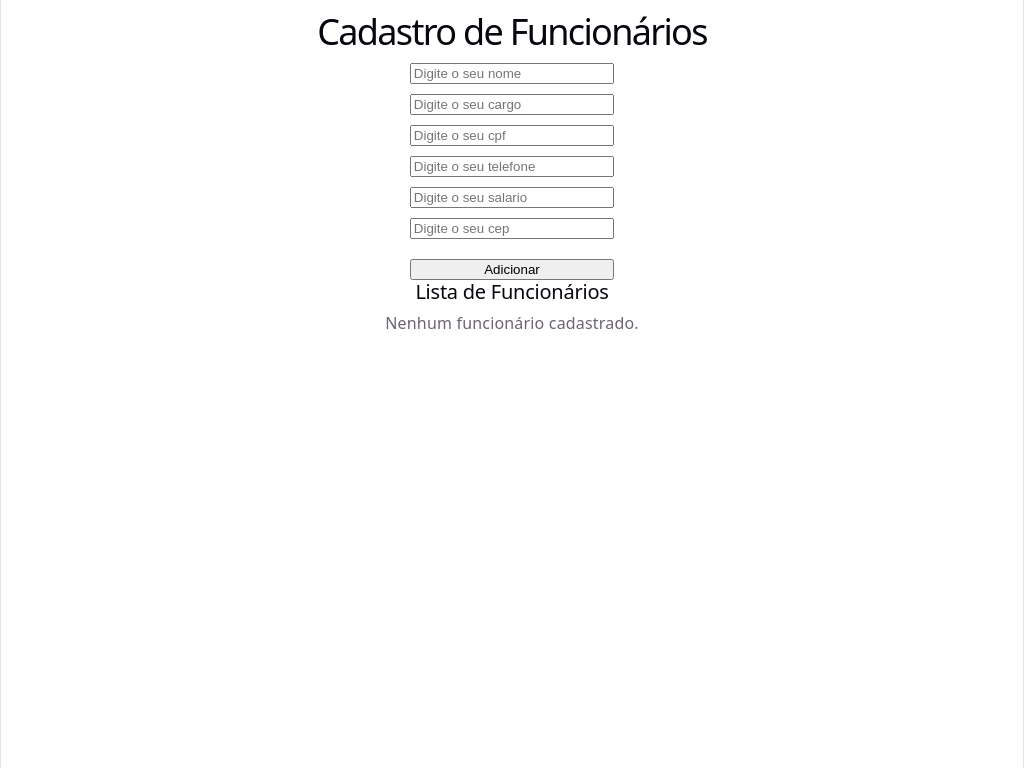
Test: Testes da Tela Cadastro de Funcionários › Verificar exibição de erro ao tentar cadastrar funcionário com cpf inválido
This screenshot has width=1024, height=768.
Step 1. Type "Mario" into the field with placeholder "Digite o seu nome" → x=512, y=74, box 410,63 -> 614,84
Step 2. Type "Vendedor" into the field with placeholder "Digite o seu cargo" → x=512, y=105, box 410,94 -> 614,115
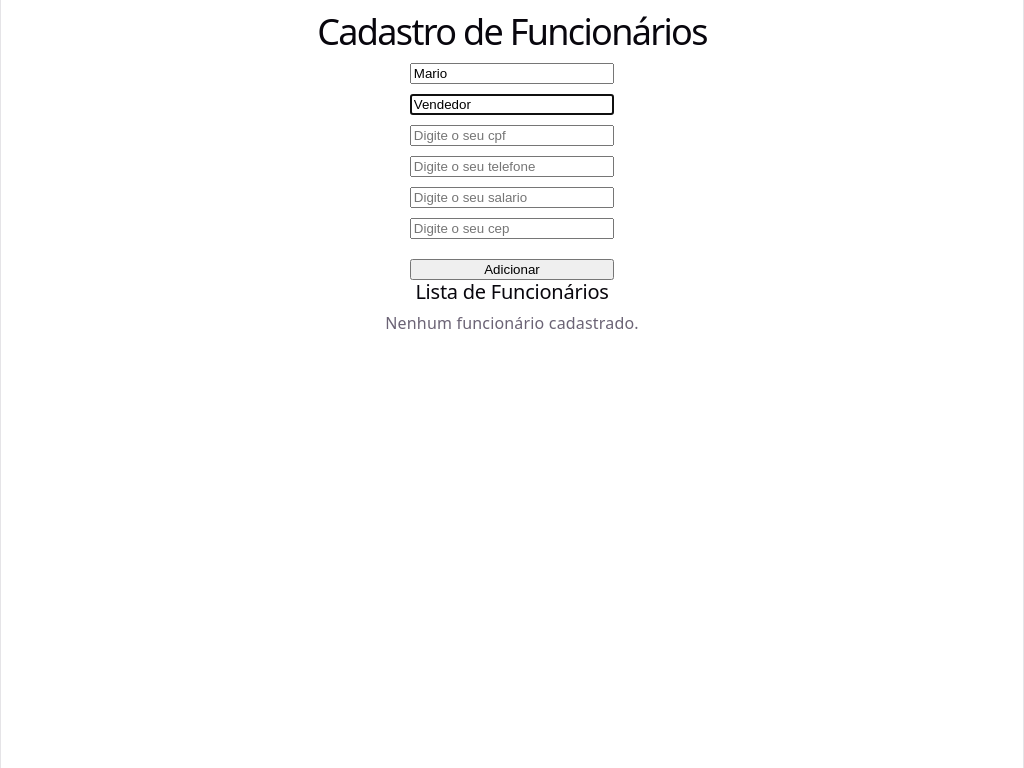
Step 3. Type "12345678" into the field with placeholder "Digite o seu cpf" → x=512, y=136, box 410,125 -> 614,146
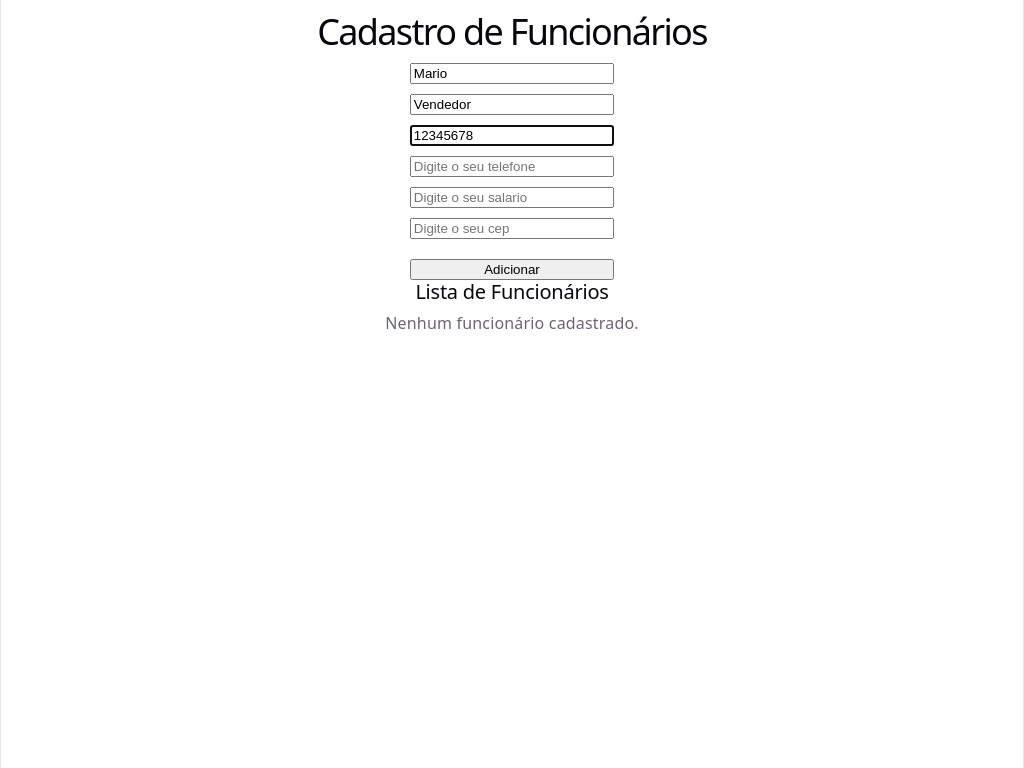
Step 4. Type "5000.00" into the field with placeholder "Digite o seu salario" → x=512, y=198, box 410,187 -> 614,208
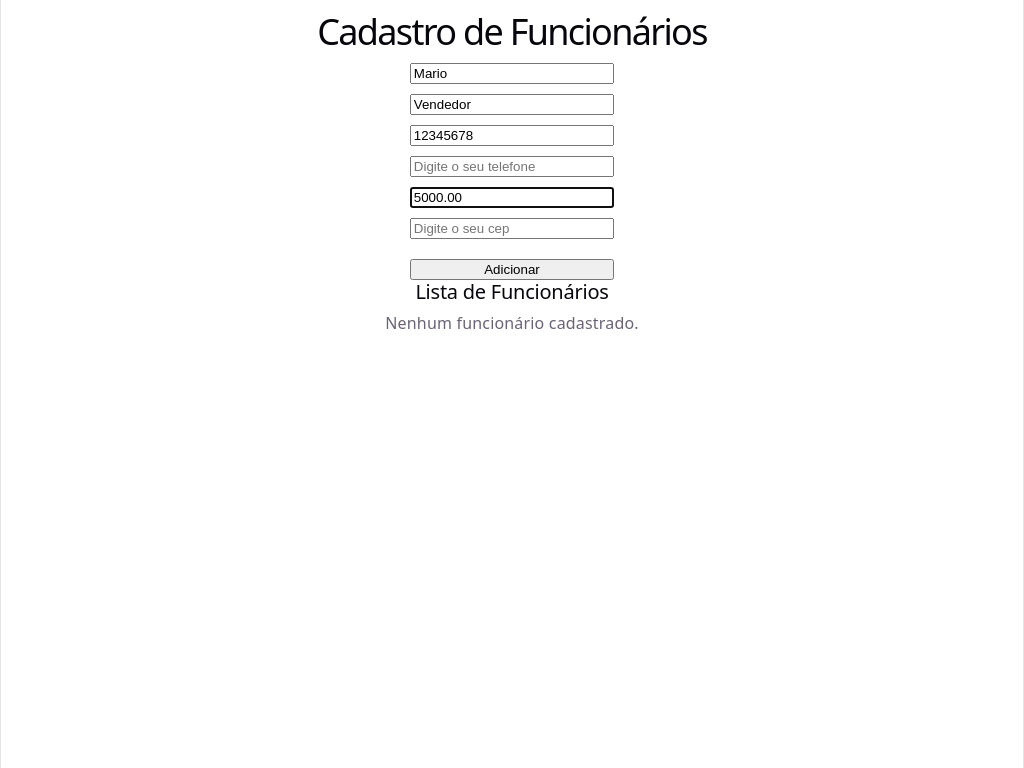
Step 5. Type "8598965423" into the field with placeholder "Digite o seu telefone" → x=512, y=167, box 410,156 -> 614,177
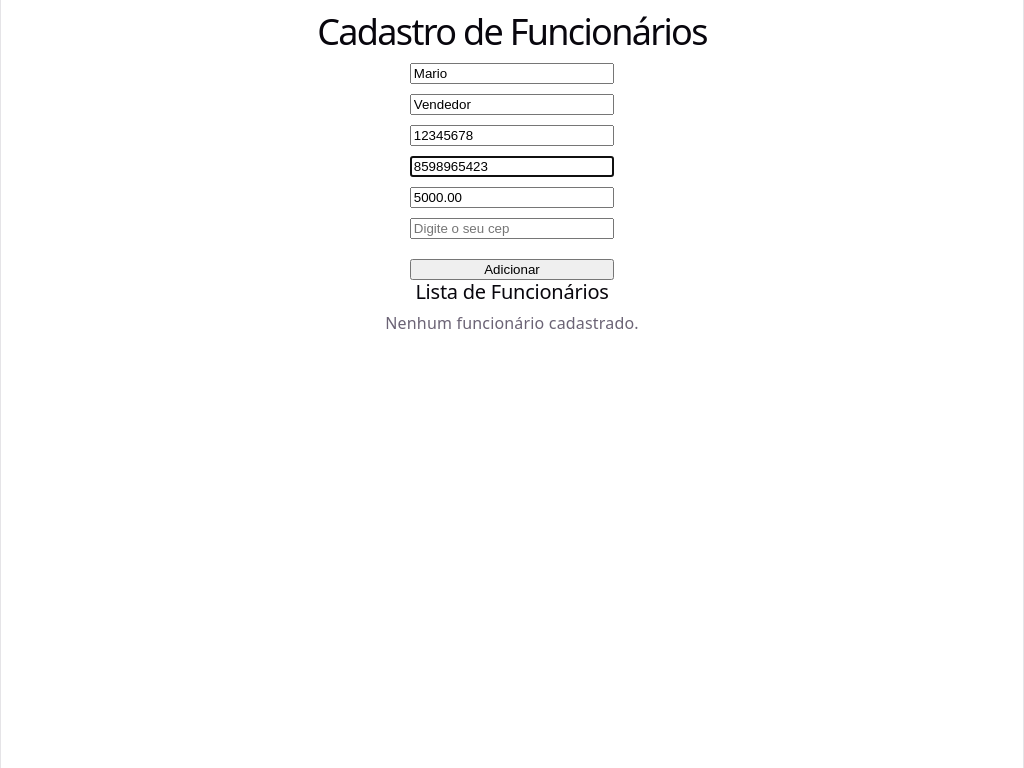
Step 6. Type "12345610" into the field with placeholder "Digite o seu cep" → x=512, y=229, box 410,218 -> 614,239
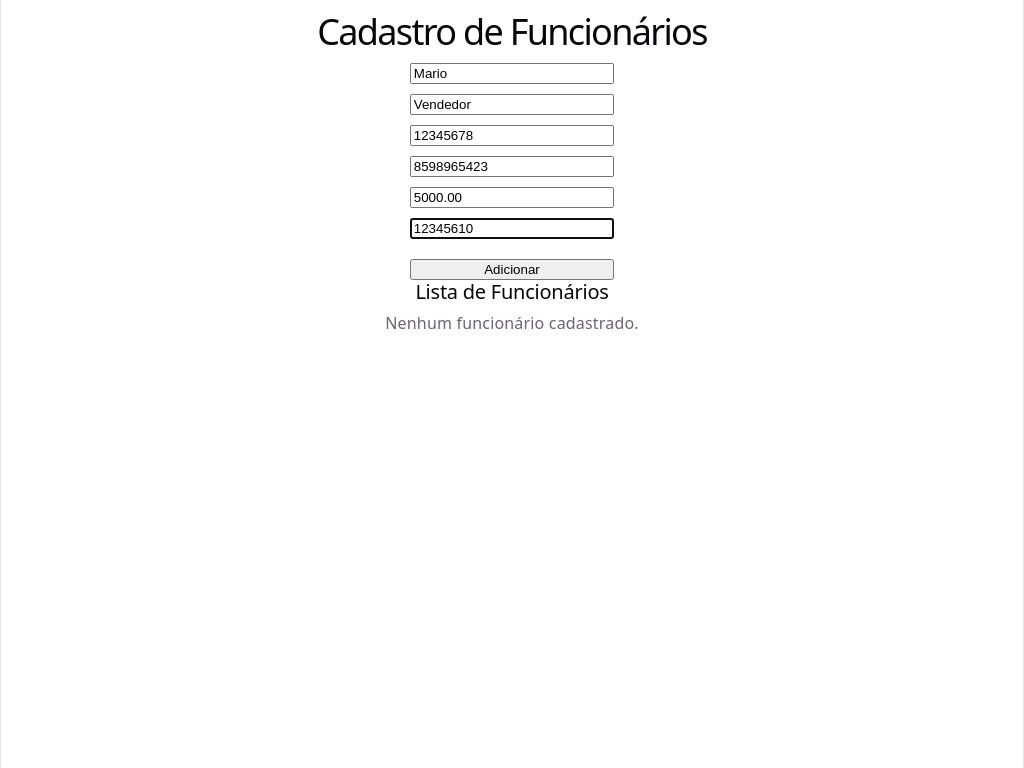
Step 7. Click the button "Adicionar" → x=512, y=270, box 410,259 -> 614,280
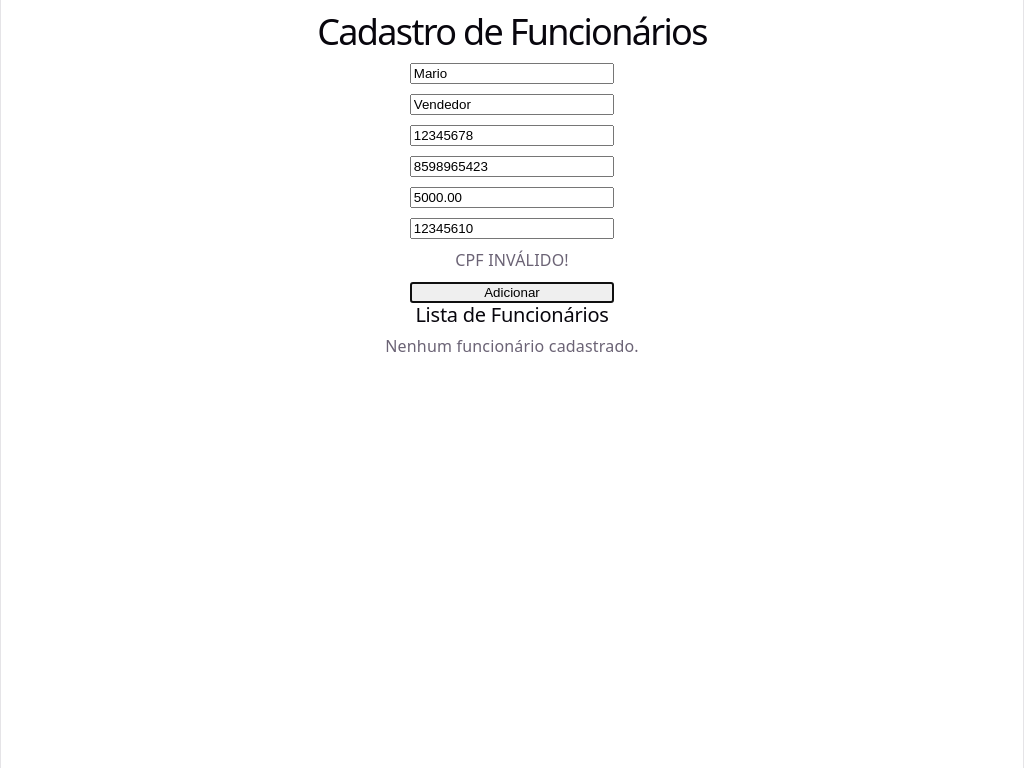
Now the message reads "CPF INVÁLIDO!", box 455,249 -> 569,271
